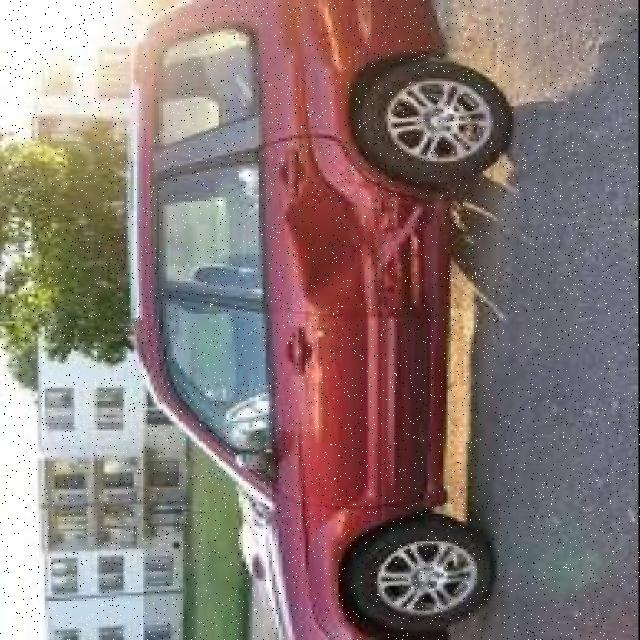damage: (282, 130, 433, 314)
